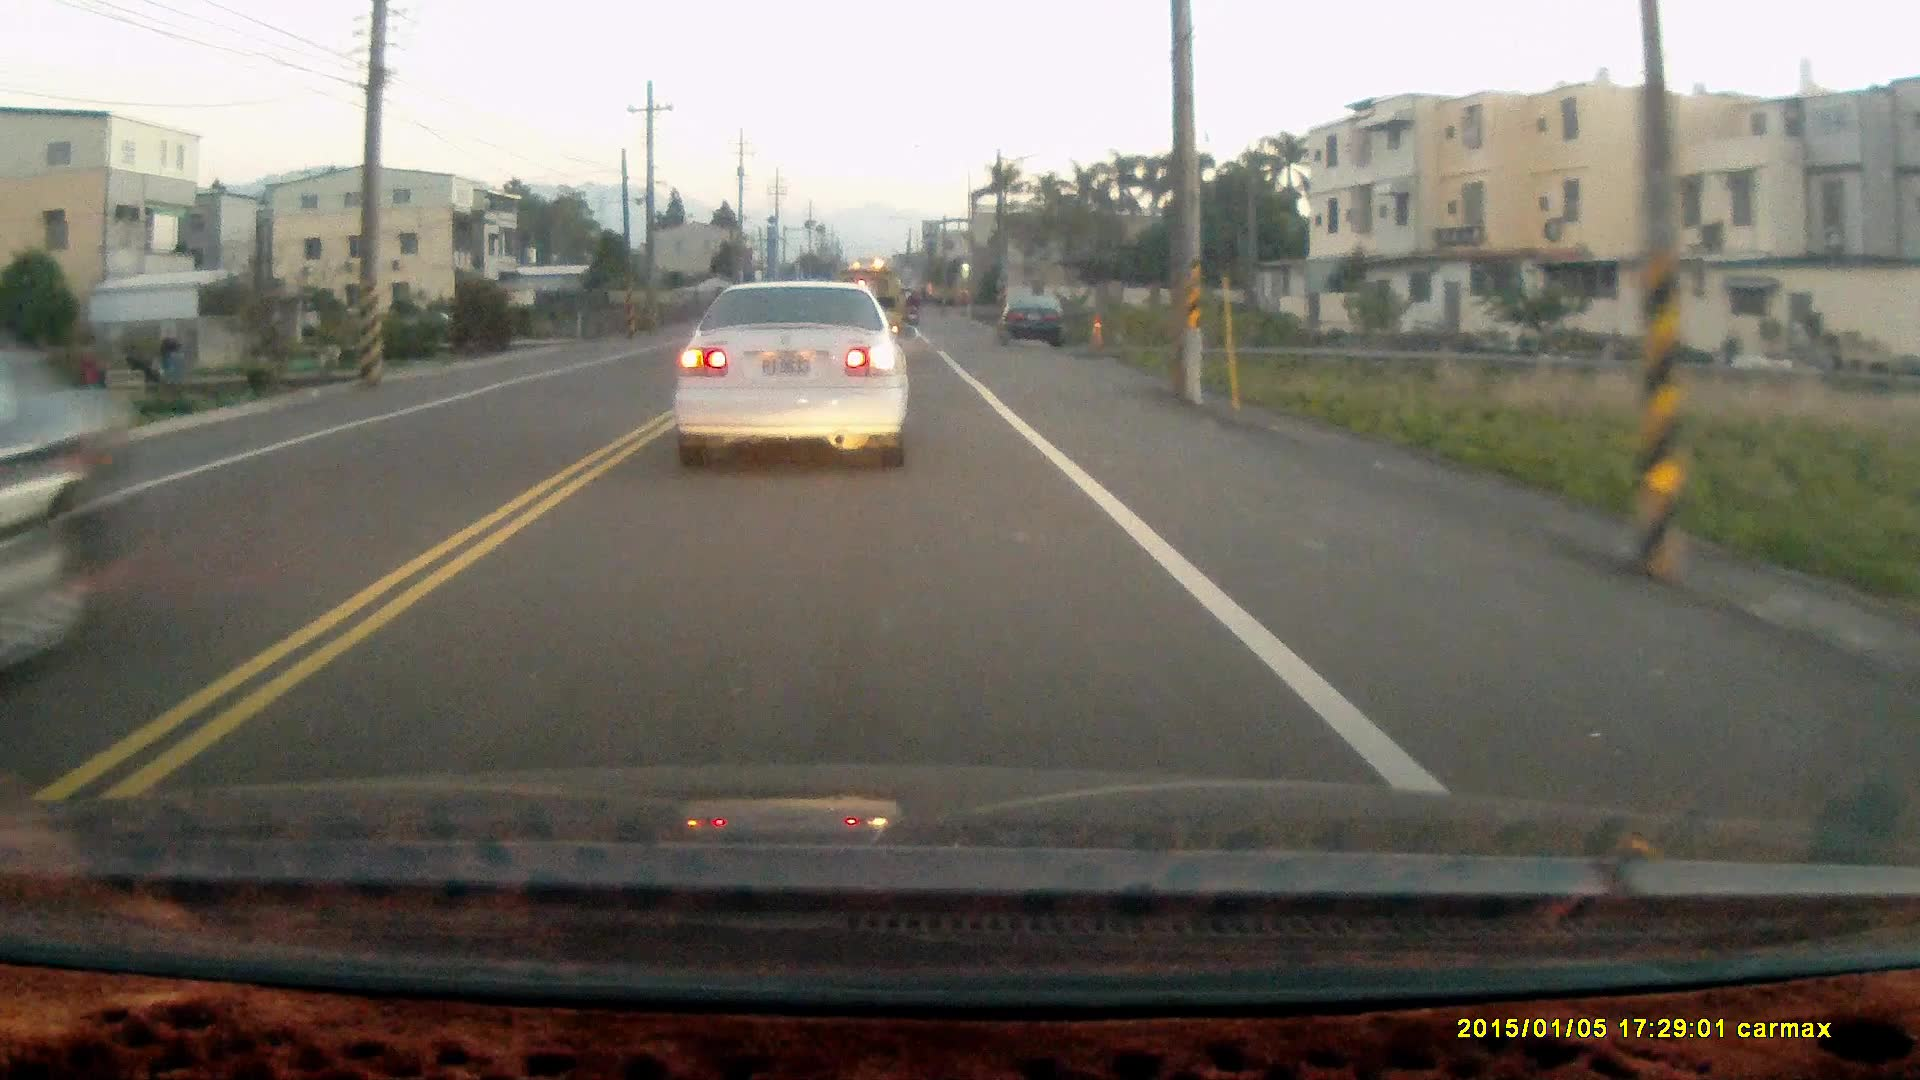pedestrian: (74, 347, 103, 404)
vehicle: (673, 279, 915, 474), (3, 359, 132, 623), (1002, 293, 1069, 350)
